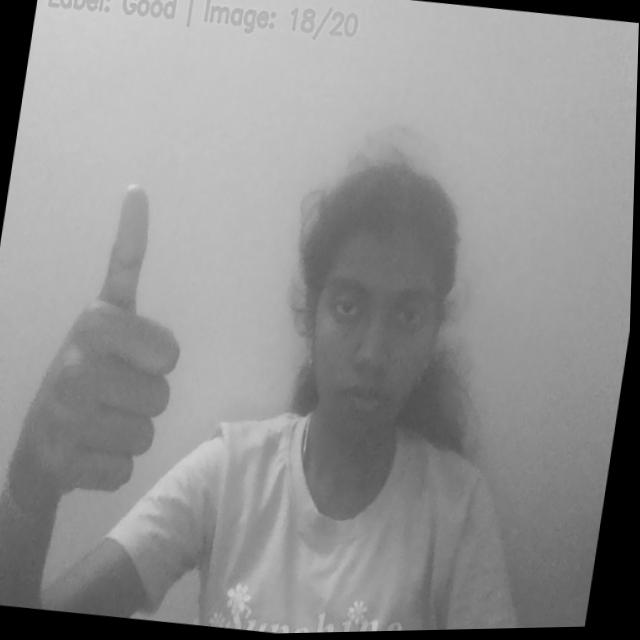Good: (3, 172, 209, 507)
